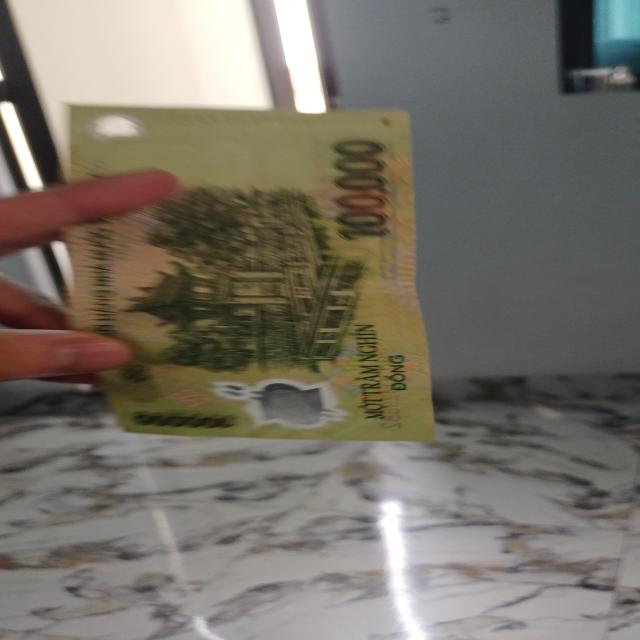100 000 VND: (58, 102, 440, 444)
